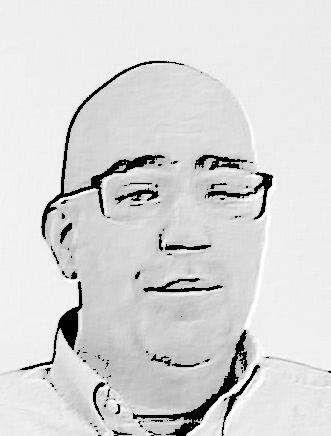nose_M_C: (157, 193, 215, 270)
